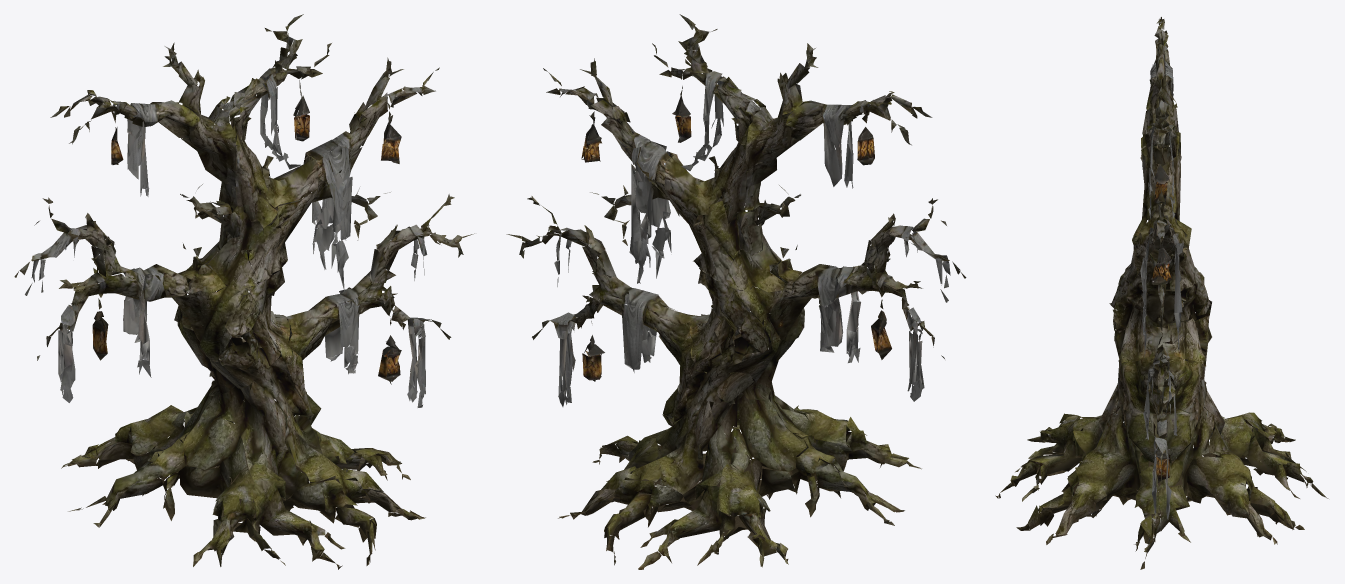
File: HangingTree.fbx
3 renders of one model, left to right at view 1: azimuth 30°, elevation 25°; view 2: azimuth 150°, elevation 25°; view 3: azimuth 270°, elevation 25°, orthographic. The views are drawn at different scales.
Visible parts, largest first — view 1: HangingTree_Body; view 2: HangingTree_Body; view 3: HangingTree_Body.
Boxes of the visible parts, x1=… form: HangingTree_Body: x1=14, y1=14, x2=474, y2=569; HangingTree_Body: x1=506, y1=14, x2=966, y2=569; HangingTree_Body: x1=995, y1=17, x2=1328, y2=569.
Size of the model in its own units: 0.9561 by 0.9787 by 0.6625.
1 material, 1 textured.
